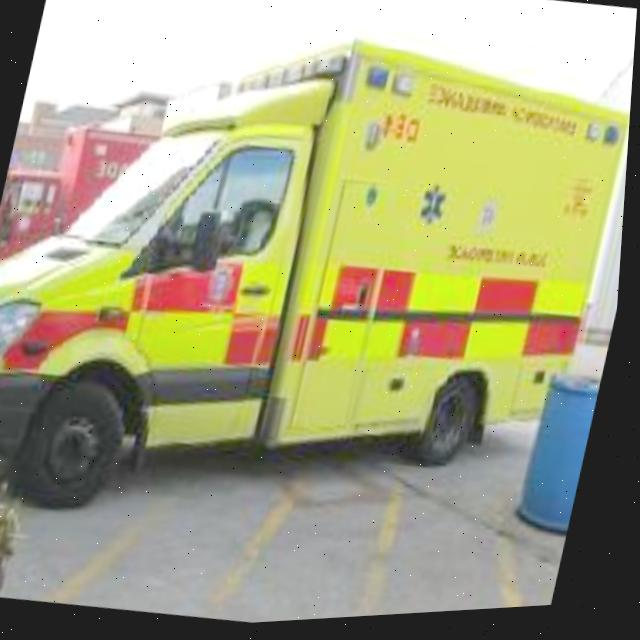emergency: (0, 1, 638, 584)
